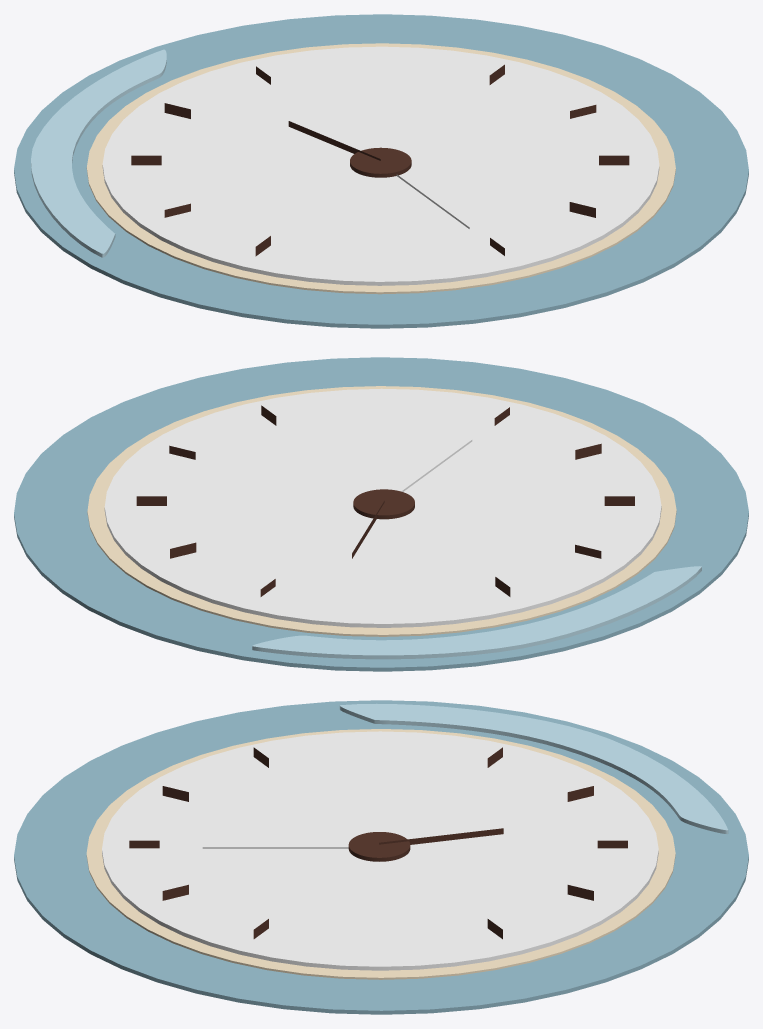
The model's file is emoji_u1f566.glb.
The picture shows the model from 3 angles, top to bottom: view 1: azimuth 30°, elevation 25°; view 2: azimuth 150°, elevation 25°; view 3: azimuth 270°, elevation 25°; orthographic projection.
Visible parts, largest first — view 1: emoji_u1f566; view 2: emoji_u1f566; view 3: emoji_u1f566.
Boxes of the visible parts, x1,y1,x2,y2 form: emoji_u1f566: (14,14,748,328); emoji_u1f566: (14,357,748,671); emoji_u1f566: (14,700,748,1014).
Bounding box in the file's own units: 0.0339 × 0.0018 × 0.0339.
